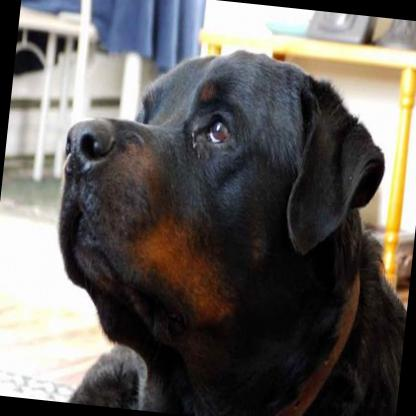Rottweiler: (35, 28, 416, 416)
